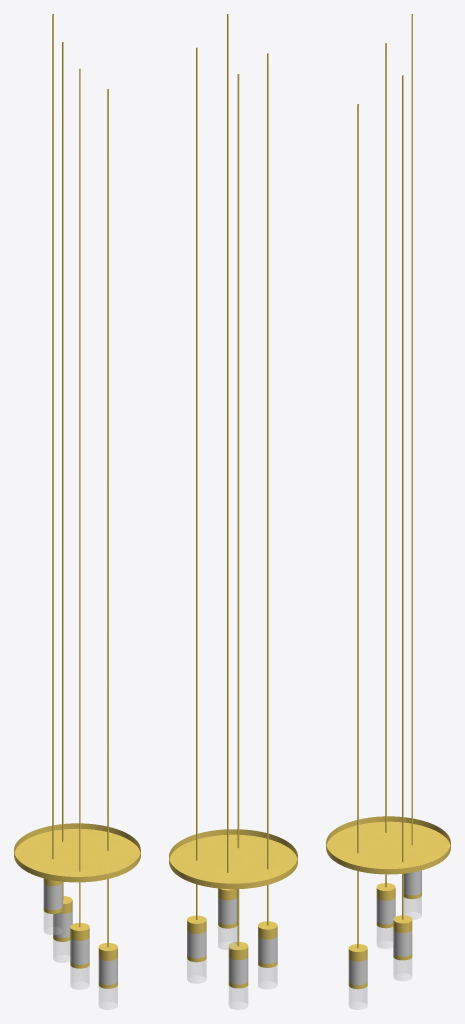
The model's file is Lamp.fbx.
3 renders of one model, left to right at view 1: azimuth 90°, elevation 25°; view 2: azimuth 150°, elevation 25°; view 3: azimuth 270°, elevation 25°, orthographic. The views are drawn at different scales.
Visible parts, largest first — view 1: Lamp, Lamp2.001, Lamp2, Lamp2.003, Lamp2.002; view 2: Lamp, Lamp2, Lamp2.001, Lamp2.002, Lamp2.003; view 3: Lamp, Lamp2.002, Lamp2, Lamp2.001, Lamp2.003.
Boxes of the visible parts, <box> form: Lamp: <box>14,823,140,882</box>; Lamp2.001: <box>70,68,89,989</box>; Lamp2: <box>98,89,117,1009</box>; Lamp2.003: <box>43,14,62,934</box>; Lamp2.002: <box>53,42,72,962</box>; Lamp: <box>169,829,297,889</box>; Lamp2: <box>228,74,248,1009</box>; Lamp2.001: <box>258,53,277,988</box>; Lamp2.002: <box>187,47,206,983</box>; Lamp2.003: <box>218,14,237,949</box>; Lamp: <box>326,816,450,874</box>; Lamp2.002: <box>393,75,412,980</box>; Lamp2: <box>348,104,367,1009</box>; Lamp2.001: <box>376,43,395,948</box>; Lamp2.003: <box>403,14,421,919</box>.
Size of the model in its own units: 99.93 by 868 by 99.93.
3 materials, 1 textured.
